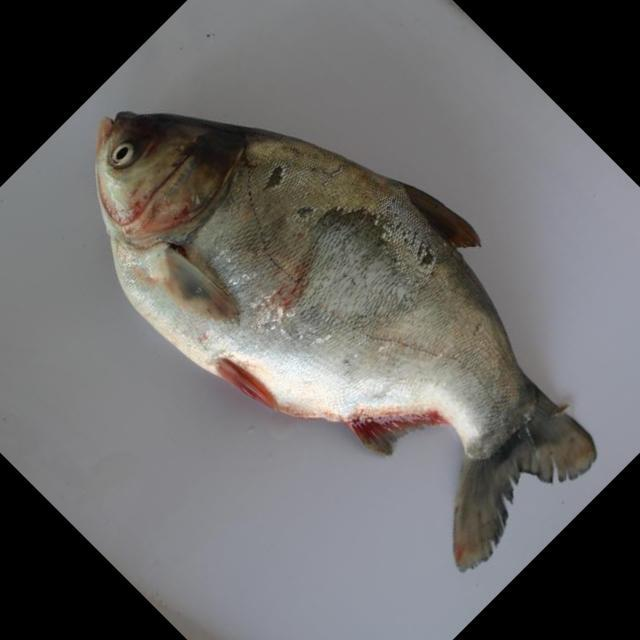SilverCarp: (93, 104, 608, 570)
